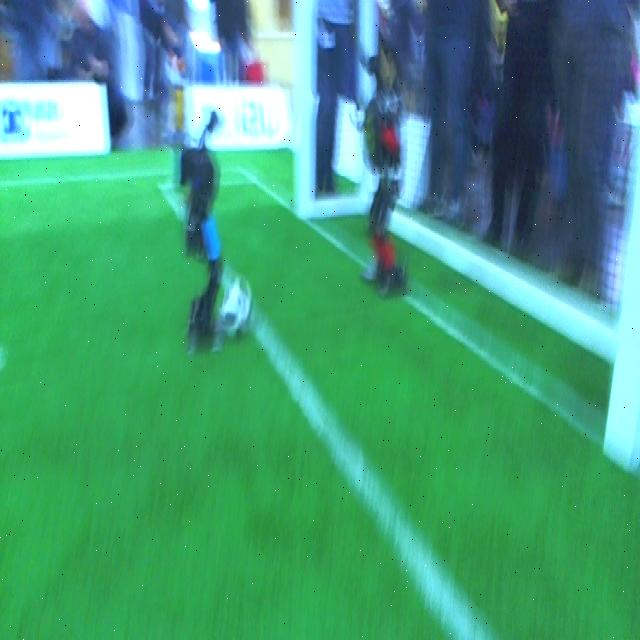ball: (218, 274, 254, 341)
goalpost: (604, 178, 640, 478), (294, 2, 318, 218)
